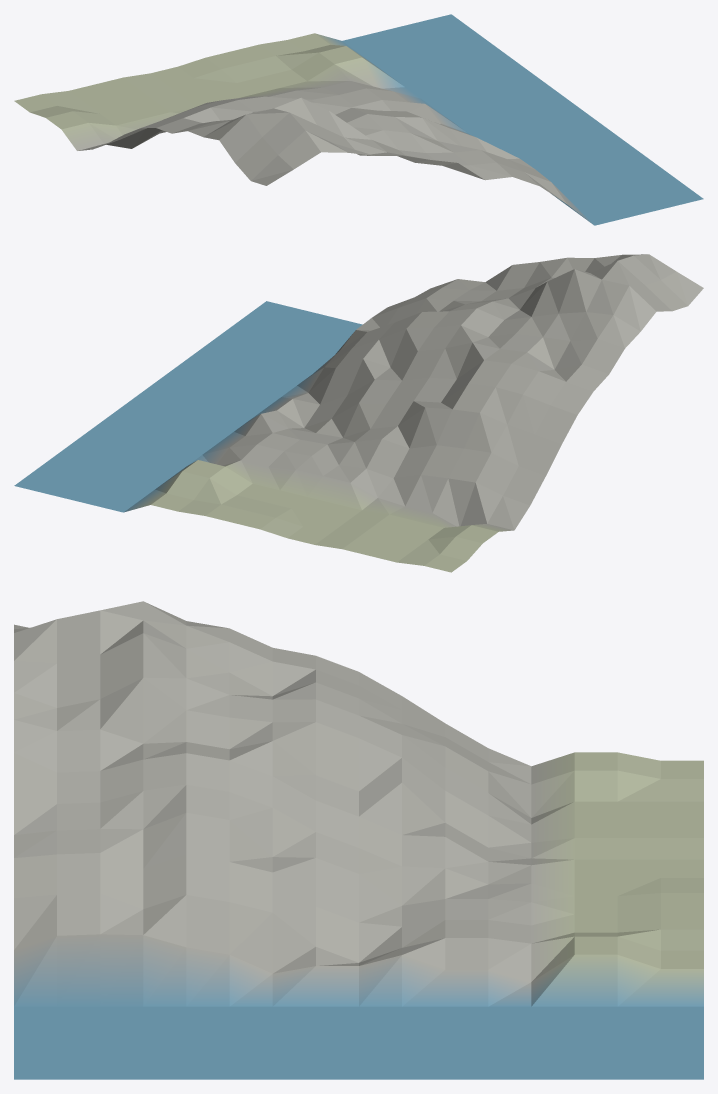
3 renders of one model, top to bottom at view 1: azimuth 30°, elevation 25°; view 2: azimuth 150°, elevation 25°; view 3: azimuth 270°, elevation 25°, orthographic. The views are drawn at different scales.
Size of the model in its own units: 32 by 10.96 by 32.
